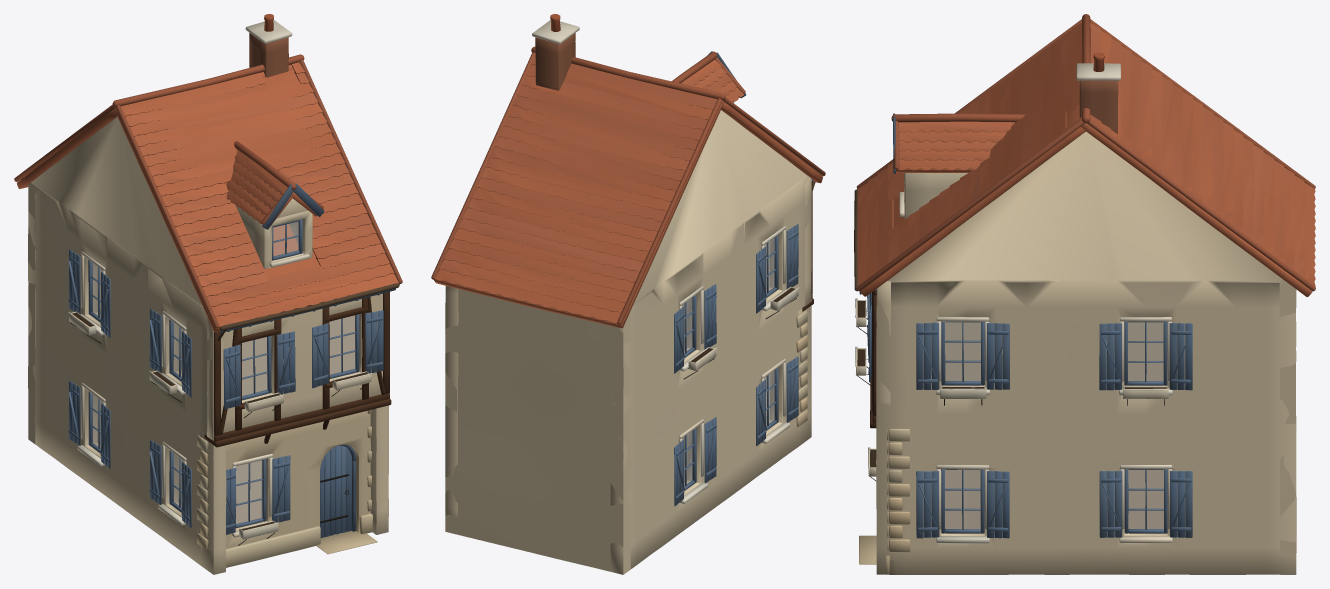
The model's file is GateStreet_BehindOuter2.glb.
The picture shows the model from 3 angles, left to right: view 1: azimuth 30°, elevation 25°; view 2: azimuth 150°, elevation 25°; view 3: azimuth 270°, elevation 25°; orthographic projection. The views are drawn at different scales.
Visible parts, largest first — view 1: Sammel Putz, Sammel Stein, Sammel Lack, Sammel Quader, Sammel Holz, Glas, Sammel Putz innen, Sammel Metall, Sammel Ziegel; view 2: Sammel Putz, Sammel Stein, Sammel Lack, Sammel Ziegel, Glas; view 3: Sammel Putz, Sammel Stein, Sammel Lack, Sammel Putz innen, Glas, Sammel Ziegel, Sammel Holz.
Boxes of the visible parts, x1,y1,x2,y2 form: Sammel Putz: (28, 14, 388, 574); Sammel Stein: (14, 54, 402, 567); Sammel Lack: (68, 183, 395, 539); Sammel Quader: (200, 410, 370, 551); Sammel Holz: (204, 291, 391, 447); Glas: (92, 221, 354, 523); Sammel Putz innen: (97, 266, 354, 523); Sammel Metall: (71, 283, 399, 545); Sammel Ziegel: (249, 33, 288, 77); Sammel Putz: (445, 14, 811, 574); Sammel Stein: (431, 46, 825, 426); Sammel Lack: (674, 51, 813, 506); Sammel Ziegel: (535, 33, 575, 90); Glas: (682, 238, 774, 485); Sammel Putz: (857, 52, 1296, 574); Sammel Stein: (856, 14, 1315, 573); Sammel Lack: (855, 113, 1192, 538); Sammel Putz innen: (945, 322, 1163, 528); Glas: (945, 322, 1163, 529); Sammel Ziegel: (1079, 80, 1118, 133); Sammel Holz: (870, 290, 876, 428).
Size of the model in its own units: 5.34 by 11.04 by 9.08.
